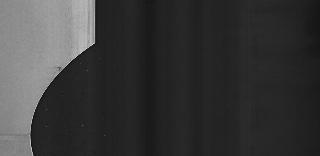welding line: (1, 131, 42, 143)
